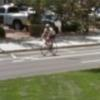bicycles: (40, 35, 59, 57)
